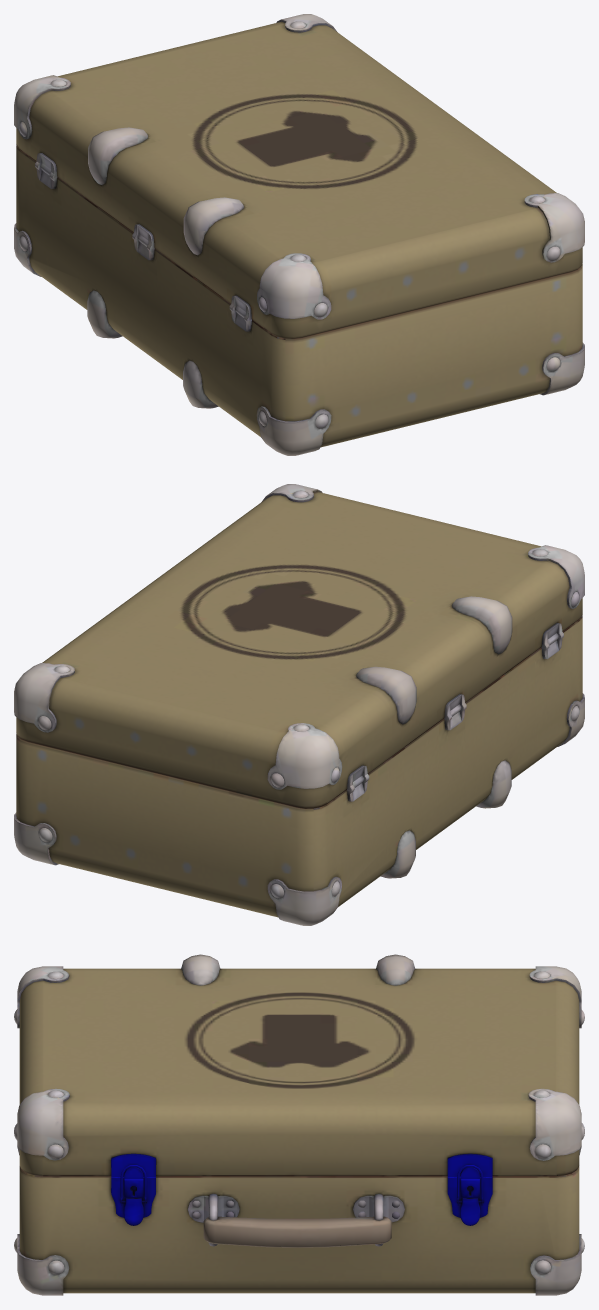
Rendered from Clothes_Case.glb.
3 views of the same model, one above another, from view 1: azimuth 30°, elevation 25°; view 2: azimuth 150°, elevation 25°; view 3: azimuth 270°, elevation 25° (orthographic).
Parts seen in each view (by area): view 1: Case_Cap, Case_Body; view 2: Case_Cap, Case_Body; view 3: Case_Cap, Case_Body, Case_Clip_L, Case_Clip_R.
Part boxes in pixels (left/top/right/bottom): Case_Cap: left=14, top=14, right=584, bottom=338; Case_Body: left=14, top=145, right=584, bottom=455; Case_Cap: left=14, top=484, right=584, bottom=808; Case_Body: left=14, top=615, right=584, bottom=925; Case_Cap: left=14, top=954, right=584, bottom=1178; Case_Body: left=14, top=1123, right=584, bottom=1295; Case_Clip_L: left=123, top=1198, right=143, bottom=1225; Case_Clip_R: left=460, top=1198, right=480, bottom=1225.
Size of the model in its own units: 0.5352 by 0.2802 by 0.7012.
Materials: 1 (1 with a texture image).
